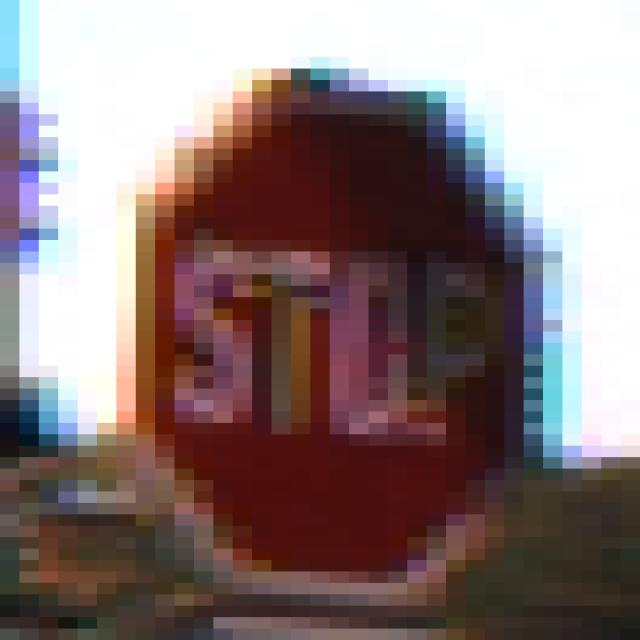STOP: (117, 58, 544, 584)
